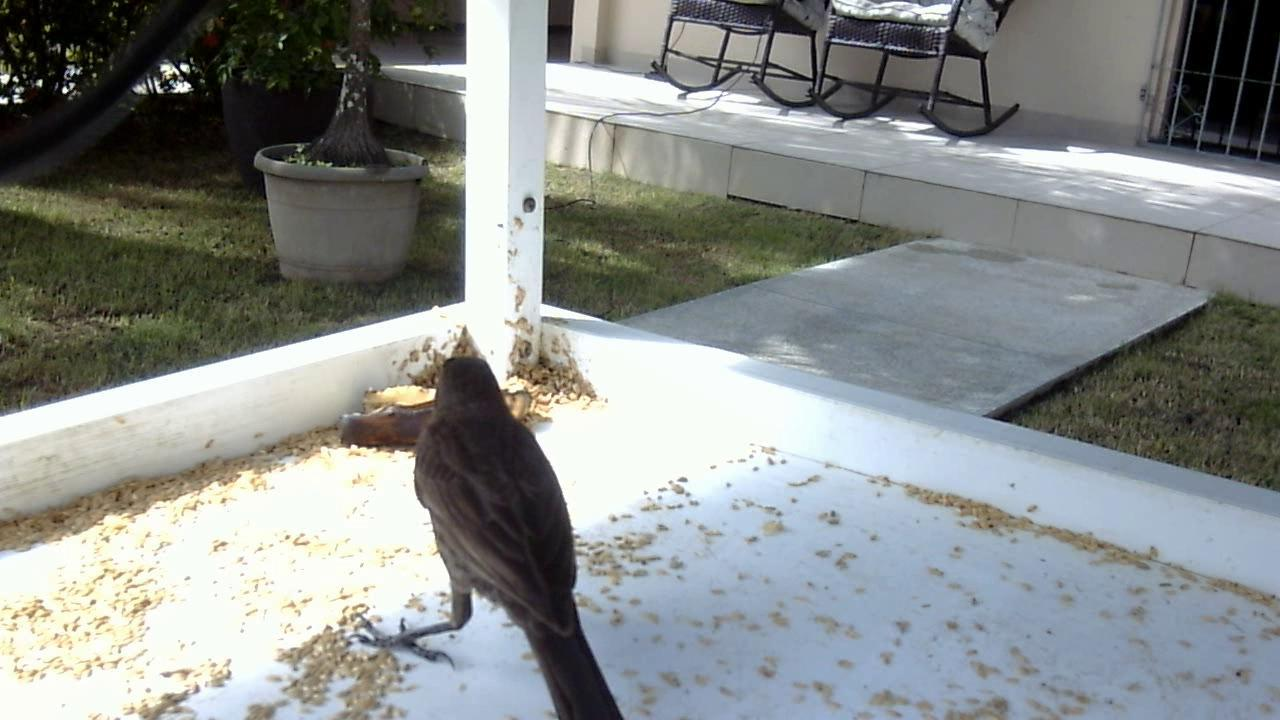chupim: (338, 340, 641, 720)
